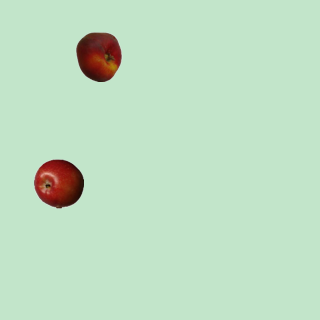Apple Braeburn: (33, 158, 83, 208)
Nectarine Flat: (73, 31, 123, 81)
